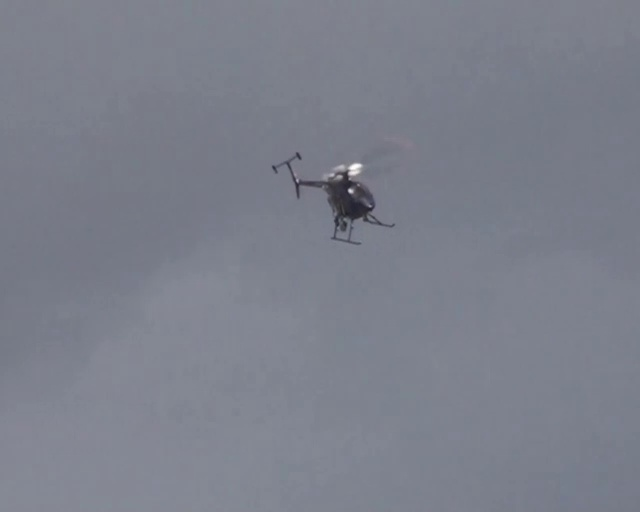HELICOPTER: (271, 149, 396, 245)
